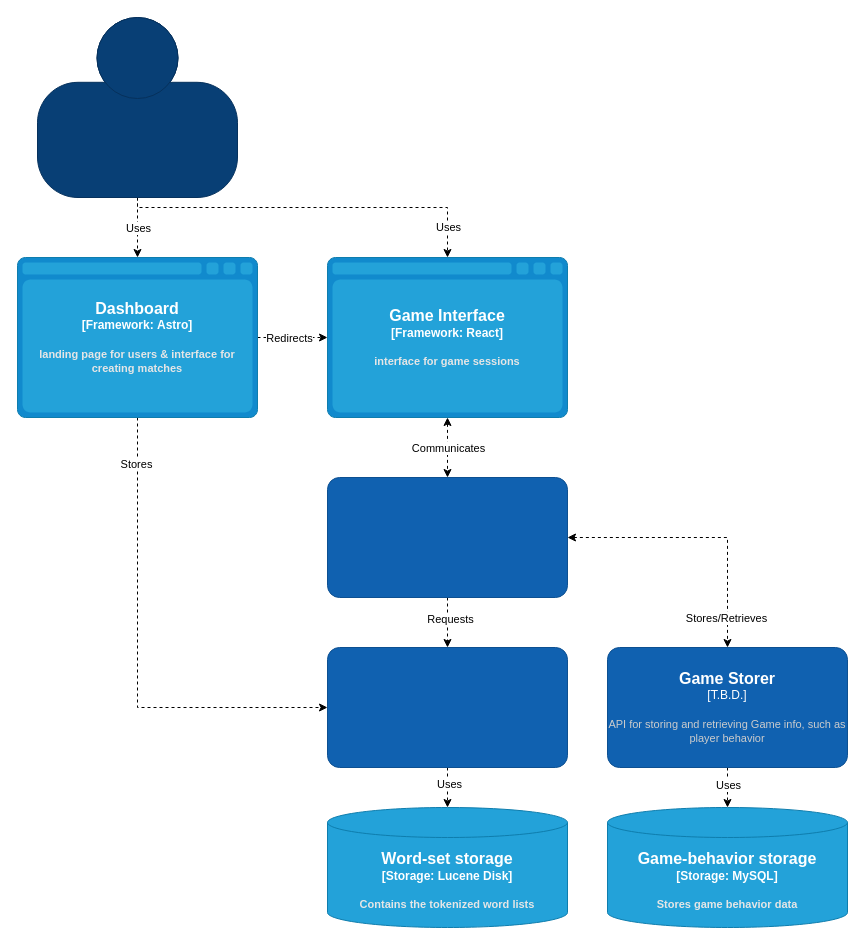
The diagram is 865 pixels wide and 945 high, and some of its shapes have lost their labels. Each missing label, with the centre of its shape:
Data Aggregator [Lucene] Data store able to evaluate data requests: [447,707]
Game Engine [Signal-R Hubs] Game logic containing the game instances: [447,537]
VocabVersus User [Player] user playing a VocabVersus Game: [137,107]
